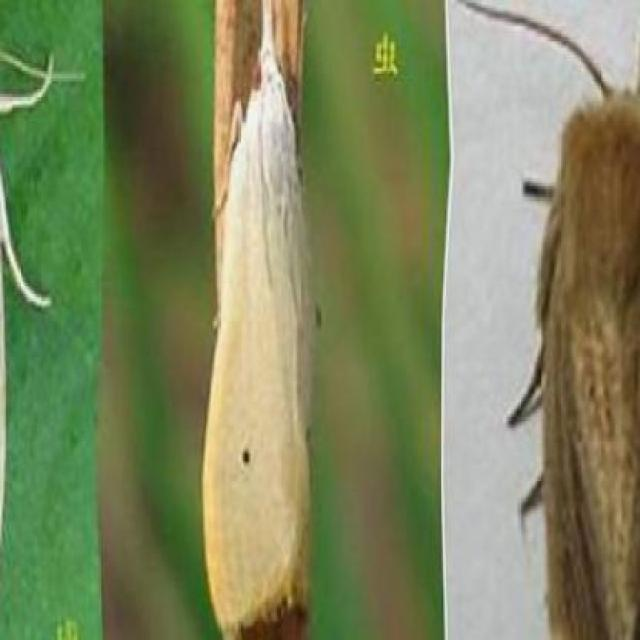stem-borer: (196, 0, 316, 640)
